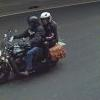Motorcycle: (2, 26, 66, 81)
